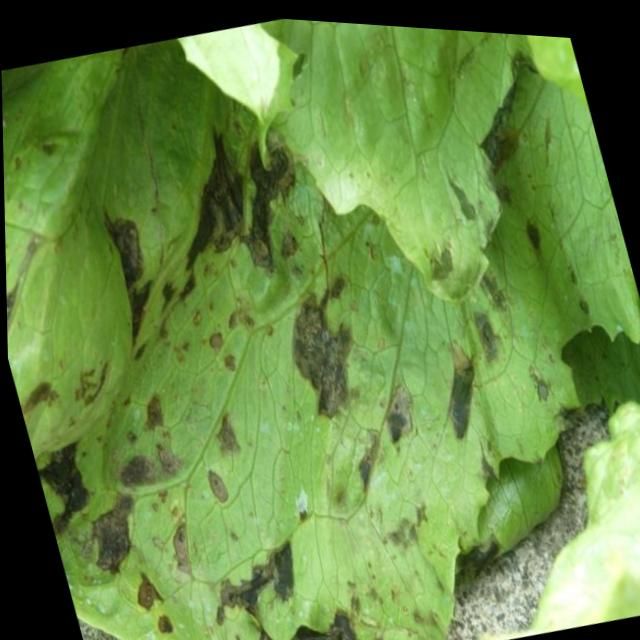Bad: (16, 19, 640, 640)
